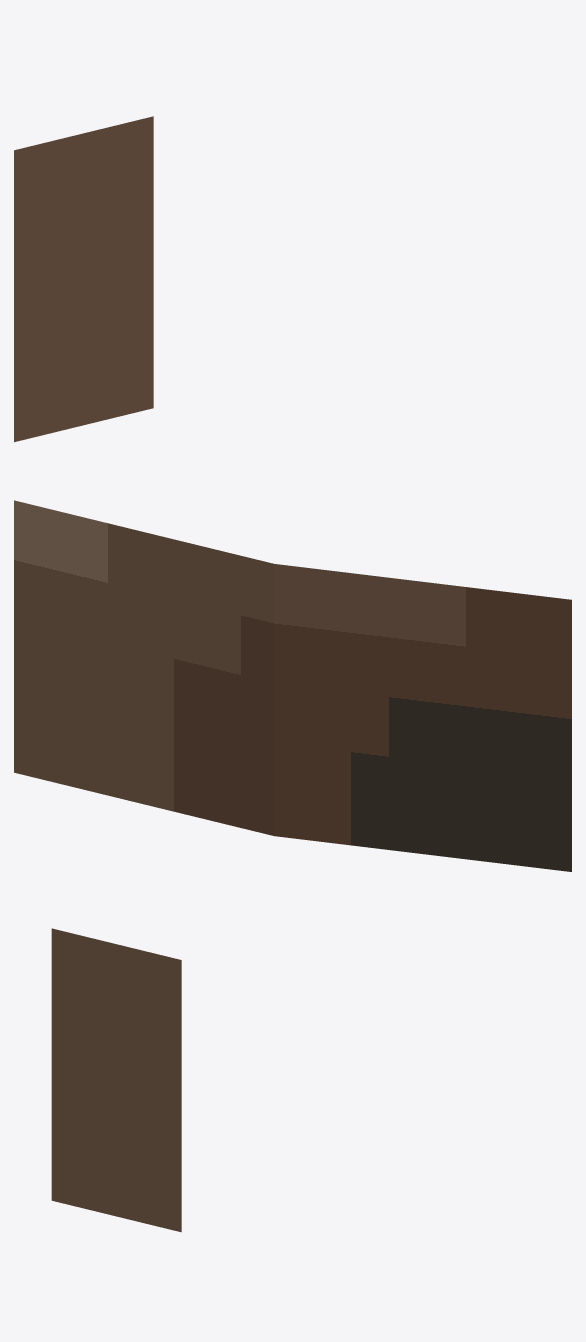
3 renders of one model, top to bottom at view 1: azimuth 30°, elevation 25°; view 2: azimuth 150°, elevation 25°; view 3: azimuth 330°, elevation 25°, orthographic. The views are drawn at different scales.
Size of the model in its own units: 1 by 0.5 by 0.125.
1 material, 1 textured.
